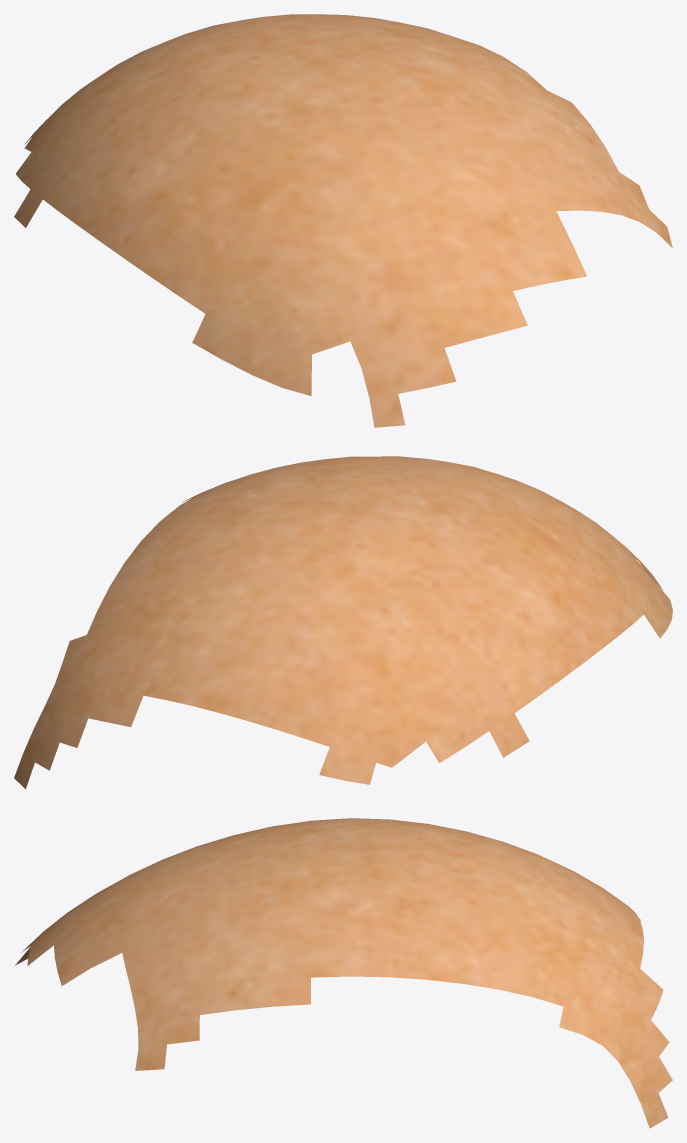
Rendered from huevoRoto.obj.
3 renders of one model, top to bottom at view 1: azimuth 30°, elevation 25°; view 2: azimuth 150°, elevation 25°; view 3: azimuth 270°, elevation 25°, orthographic. The views are drawn at different scales.
Visible parts, largest first — view 1: huevoRoto; view 2: huevoRoto; view 3: huevoRoto.
Part boxes in pixels (left/top/right/bottom): huevoRoto: left=14, top=14, right=672, bottom=427; huevoRoto: left=14, top=456, right=672, bottom=789; huevoRoto: left=15, top=818, right=672, bottom=1128.
Bounding box in the file's own units: 2.47 × 1.09 × 3.37.
Materials: 1 (1 with a texture image).
